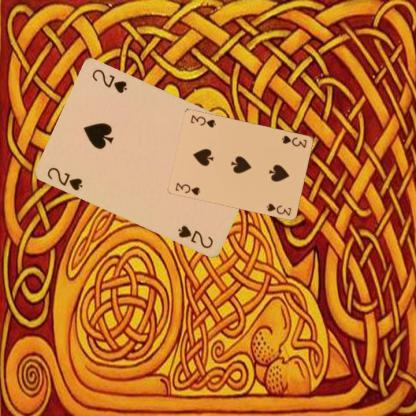2s: (44, 164, 84, 192)
3s: (173, 180, 202, 196), (279, 133, 308, 148)
